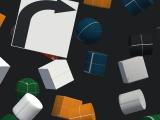Right: (11, 0, 79, 58)
